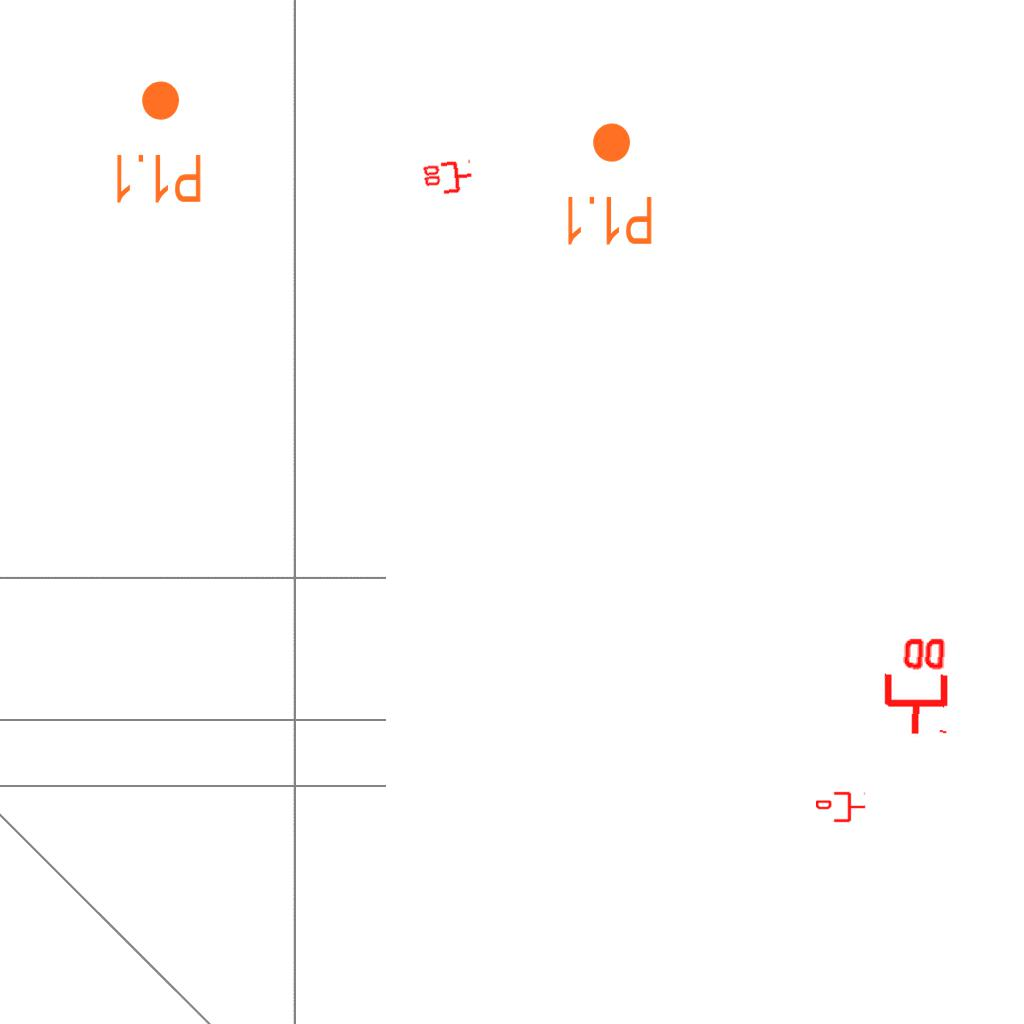Datenanschluss_einfach: (816, 790, 866, 824)
Datenanschluss_zweifach: (879, 633, 950, 738), (420, 158, 476, 199)
Downlight_LED_Einbauleuchten_Flur: (111, 78, 204, 206), (562, 120, 655, 248)
